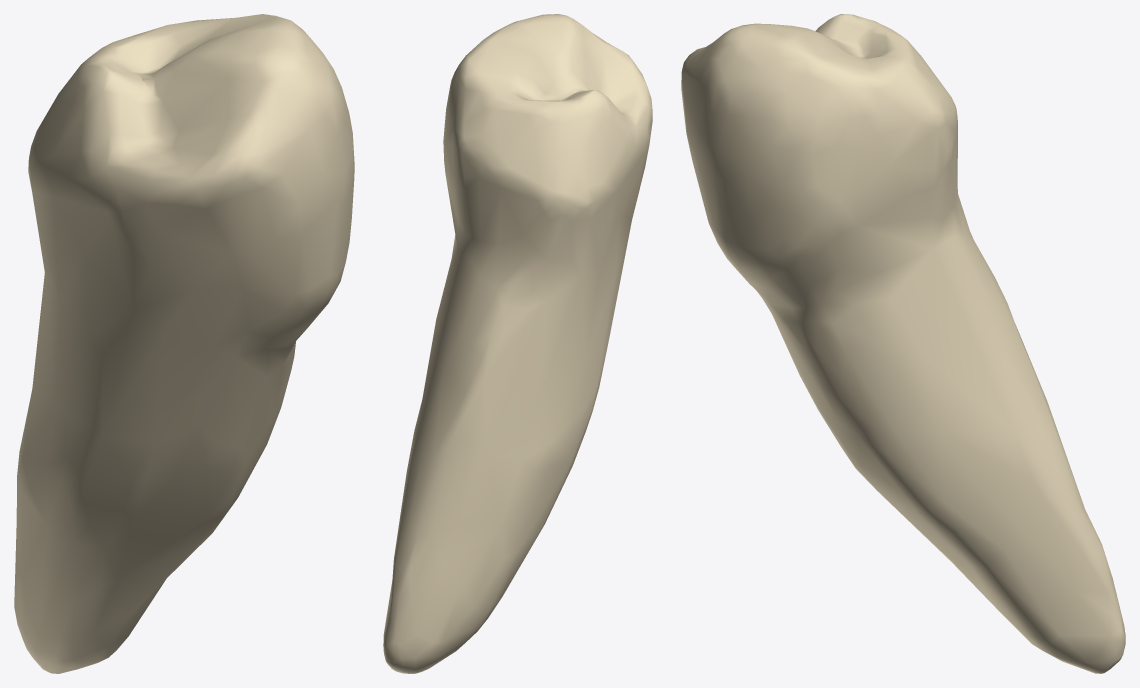
Rendered from tooth-34.glb.
3 renders of one model, left to right at view 1: azimuth 30°, elevation 25°; view 2: azimuth 150°, elevation 25°; view 3: azimuth 270°, elevation 25°, orthographic. The views are drawn at different scales.
Visible parts, largest first — view 1: tooth-34; view 2: tooth-34; view 3: tooth-34.
Boxes of the visible parts, x1=… form: tooth-34: x1=14, y1=14, x2=354, y2=673; tooth-34: x1=383, y1=14, x2=652, y2=673; tooth-34: x1=681, y1=14, x2=1125, y2=673.
Bounding box in the file's own units: 0.1978 × 0.5622 × 0.3531.
